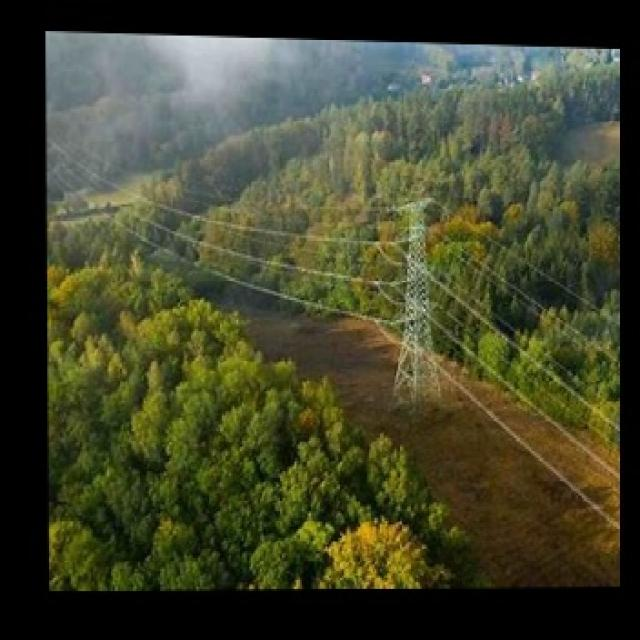utility poles: (366, 185, 472, 426)
